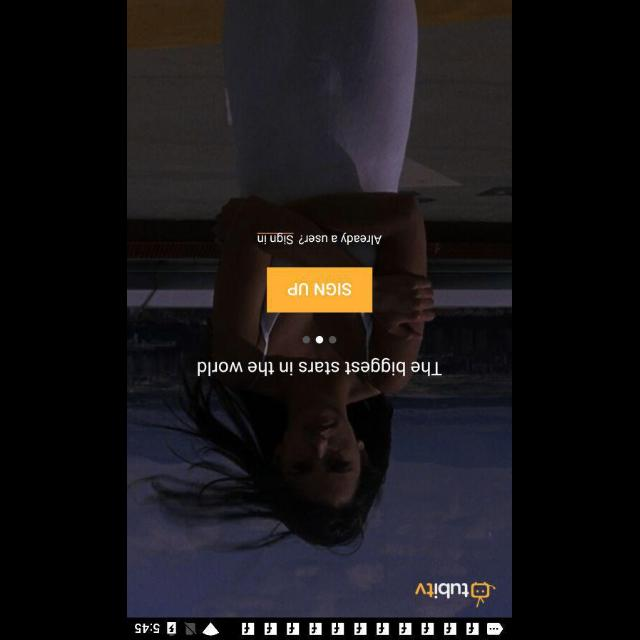backgroundimage: (128, 0, 512, 616)
image: (415, 580, 497, 608)
pageindicator: (302, 334, 338, 344)
text: (198, 356, 442, 376), (258, 232, 382, 244)
textbutton: (267, 266, 373, 312)
uppertaskbar: (128, 617, 512, 639)
